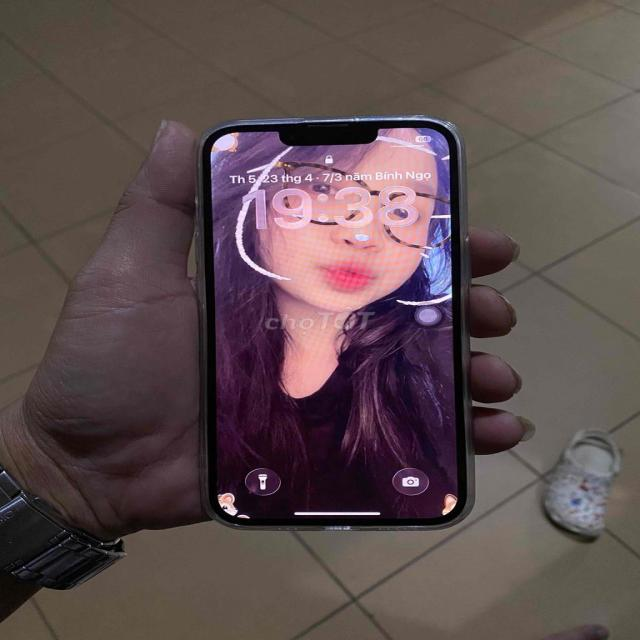gen_12_13: (200, 115, 479, 542)
